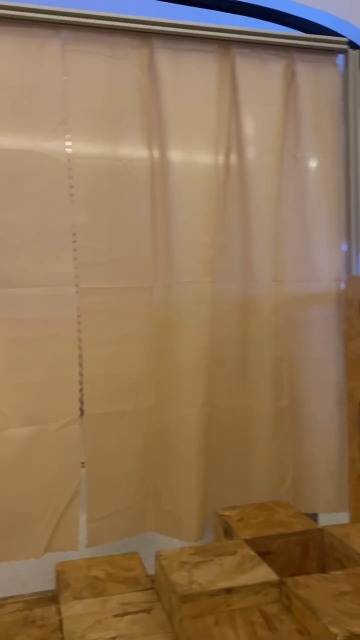curtain: (0, 13, 360, 557)
